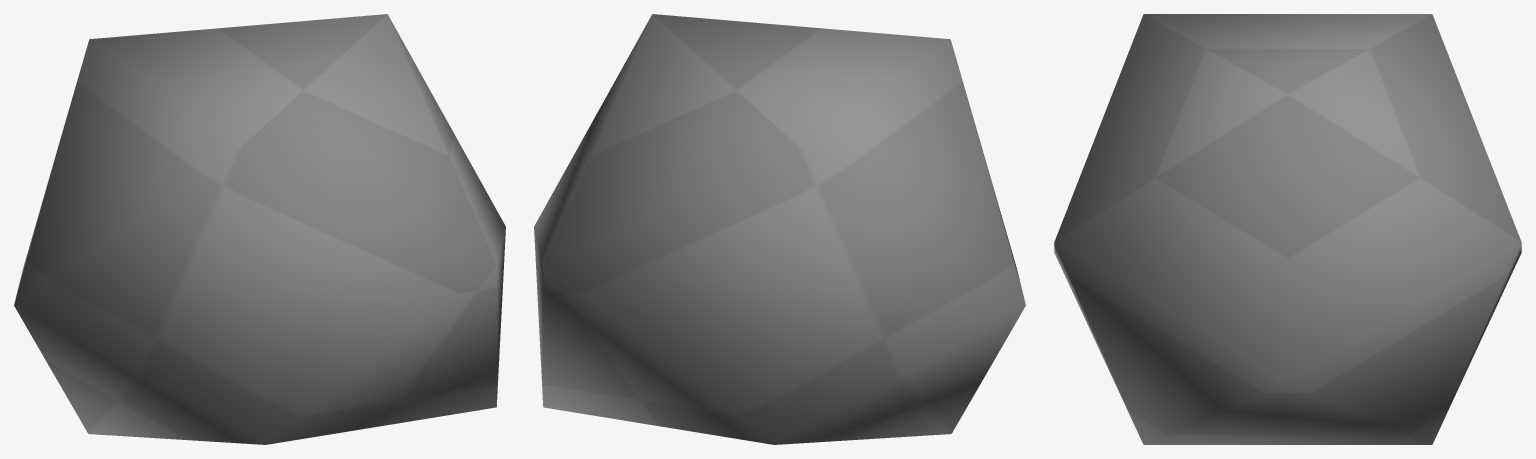
File: rock1_20.FBX
3 views of the same model, side by side, from view 1: azimuth 30°, elevation 25°; view 2: azimuth 150°, elevation 25°; view 3: azimuth 270°, elevation 25° (orthographic). The views are drawn at different scales.
Visible parts, largest first — view 1: rock1; view 2: rock1; view 3: rock1.
Part boxes in pixels (x1=…): rock1: x1=14, y1=14, x2=505, y2=444; rock1: x1=534, y1=14, x2=1025, y2=444; rock1: x1=1054, y1=14, x2=1521, y2=444.
Bounding box in the file's own units: 121 × 104 × 81.85.
